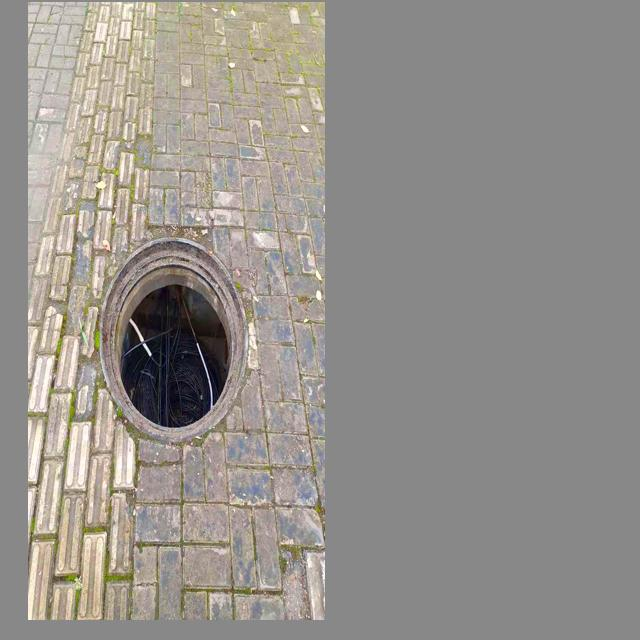lose: (101, 238, 249, 446)
